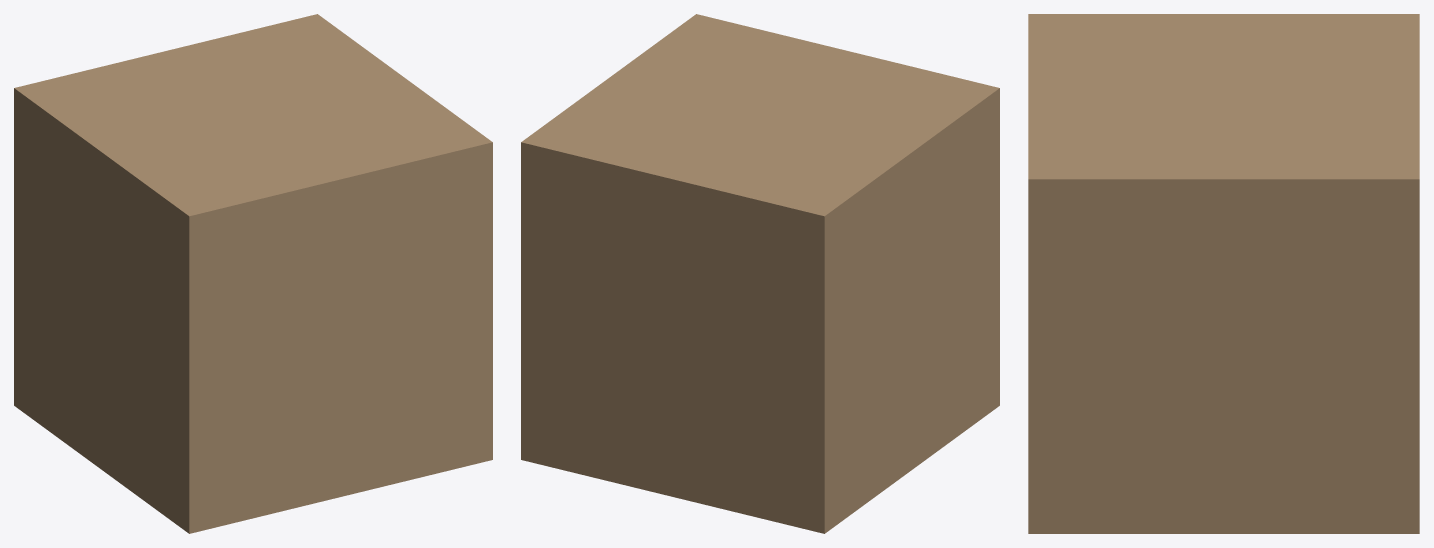
The model's file is 94_beam.glb.
3 renders of one model, left to right at view 1: azimuth 30°, elevation 25°; view 2: azimuth 150°, elevation 25°; view 3: azimuth 270°, elevation 25°, orthographic. The views are drawn at different scales.
Parts seen in each view (by area): view 1: Core, Panel; view 2: Core, Panel; view 3: Core, Panel.
Boxes of the visible parts, x1,y1,x2,y2 form: Core: [14, 14, 492, 533]; Panel: [14, 218, 490, 403]; Core: [521, 14, 999, 533]; Panel: [524, 218, 999, 402]; Core: [1028, 14, 1419, 533]; Panel: [1028, 324, 1419, 388].
Size of the model in its own units: 1 by 1 by 1.
